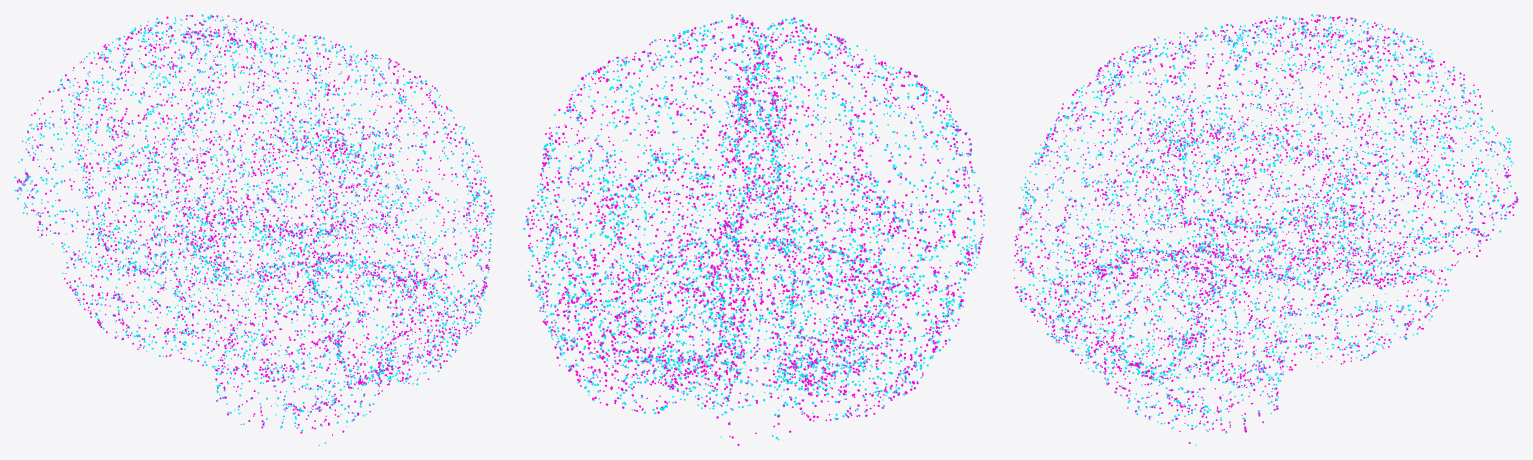
File: brain_hologram.glb
3 views of the same model, side by side, from view 1: azimuth 30°, elevation 25°; view 2: azimuth 150°, elevation 25°; view 3: azimuth 270°, elevation 25° (orthographic). The views are drawn at different scales.
Parts seen in each view (by area): view 1: Icosphere.001; view 2: Icosphere.001; view 3: Icosphere.001.
Boxes of the visible parts, box(x1,y1,x2,y2) form: Icosphere.001: box(14, 14, 494, 445); Icosphere.001: box(523, 14, 984, 445); Icosphere.001: box(1013, 14, 1518, 445).
Bounding box in the file's own units: 1.09 × 1.1 × 1.3.
